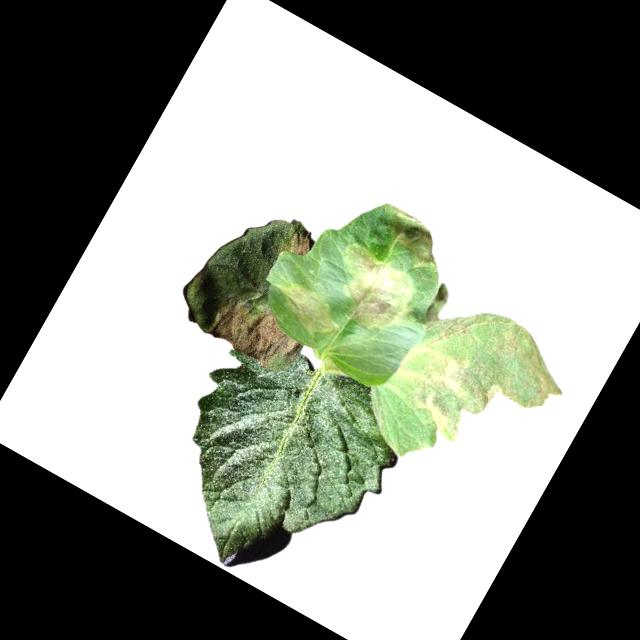Late_blight: (374, 278, 585, 479), (317, 238, 426, 343), (206, 287, 312, 378), (271, 276, 351, 344), (370, 201, 449, 269), (285, 225, 318, 260)
healthy: (129, 314, 423, 615)
